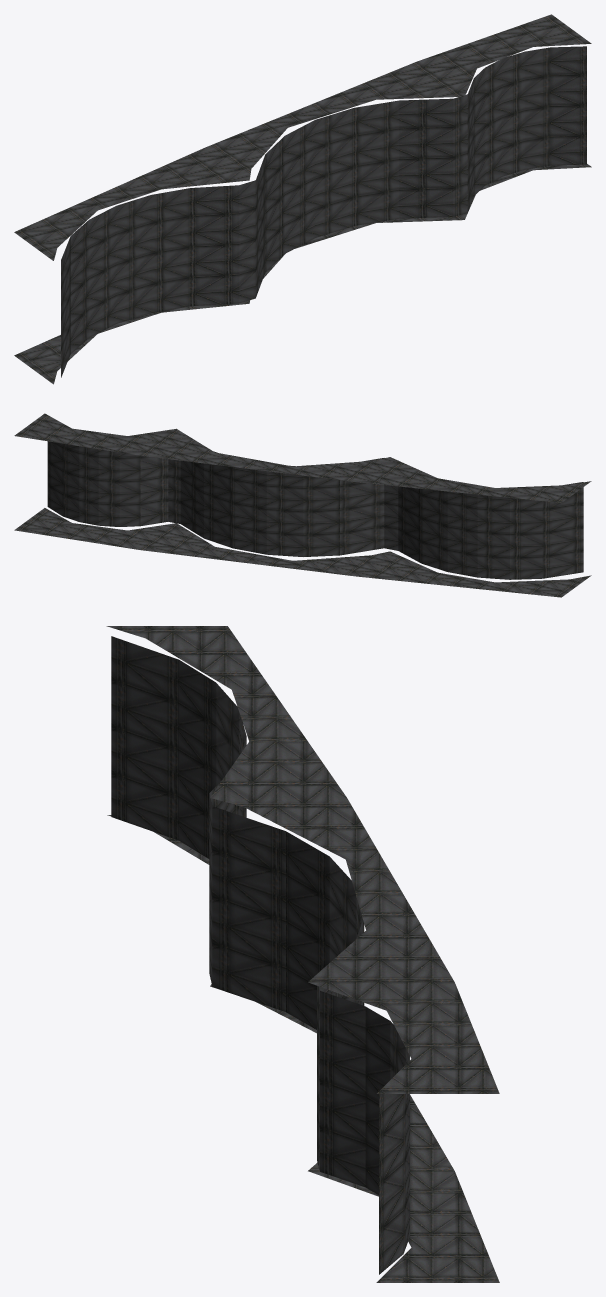
The model's file is pier01tr_law2.obj.
3 views of the same model, one above another, from view 1: azimuth 30°, elevation 25°; view 2: azimuth 150°, elevation 25°; view 3: azimuth 270°, elevation 25° (orthographic). The views are drawn at different scales.
Visible parts, largest first — view 1: Pier01Tr_LAw2; view 2: Pier01Tr_LAw2; view 3: Pier01Tr_LAw2.
Part boxes in pixels (bbox=[...]): Pier01Tr_LAw2: bbox=[14, 14, 591, 384]; Pier01Tr_LAw2: bbox=[14, 413, 591, 597]; Pier01Tr_LAw2: bbox=[106, 626, 499, 1282].
Bounding box in the file's own units: 45 × 8.46 × 16.
1 material, 1 textured.
